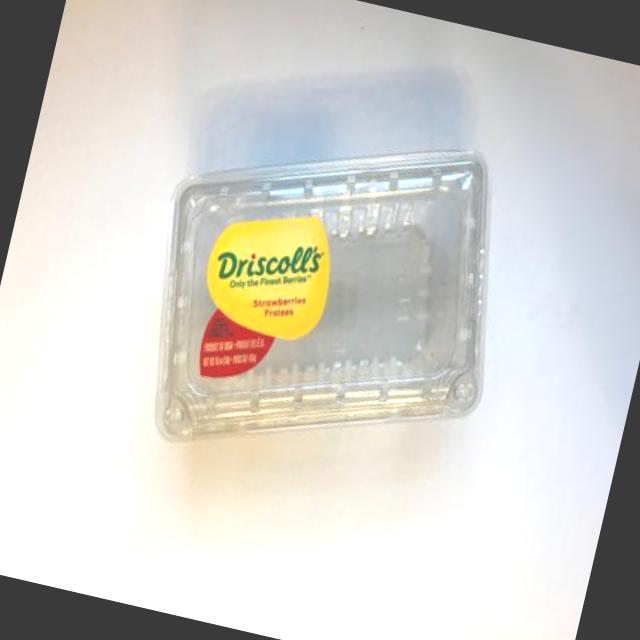Trash: (114, 126, 526, 508)
